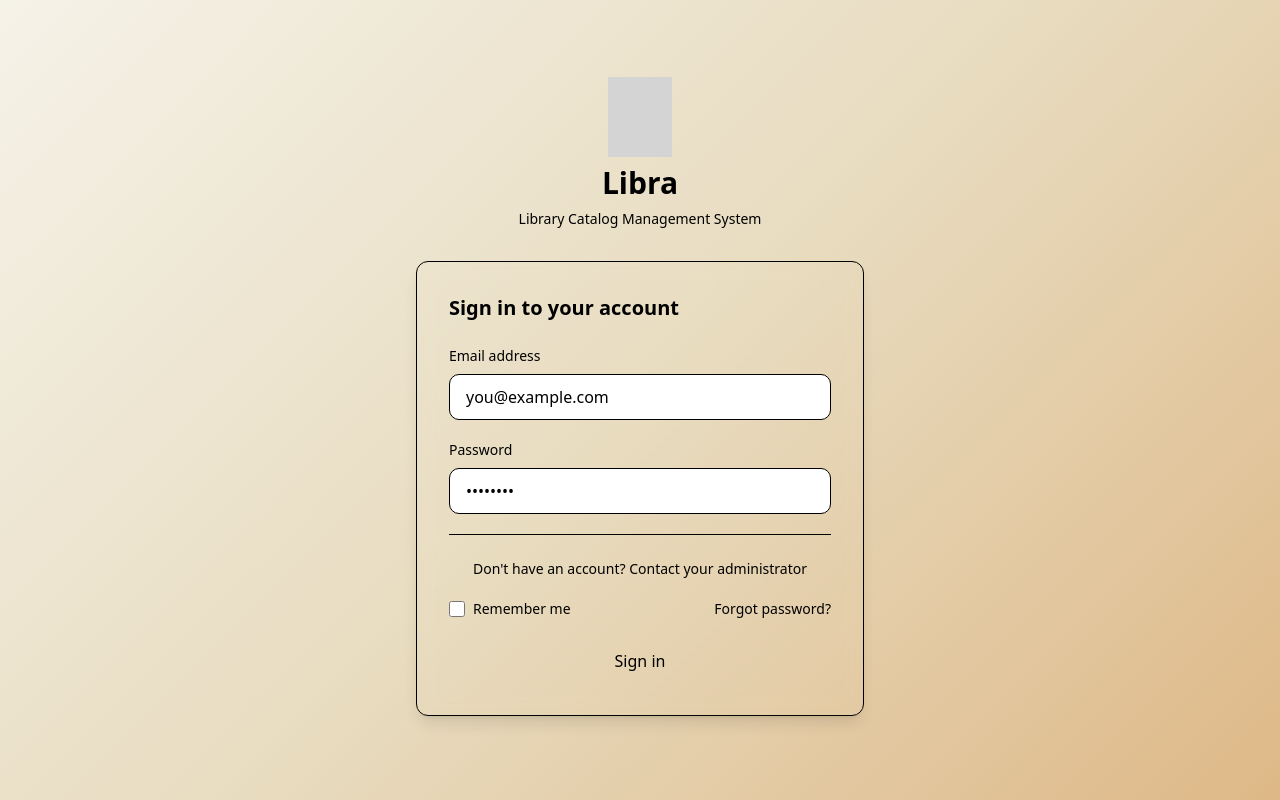
Failed login › displays an error message when login fails
Type "wrong@example.com" into the field labelled "Email address".
click(640, 396); type("wrong@example.com")  # box x1=449 y1=374 x2=831 y2=420
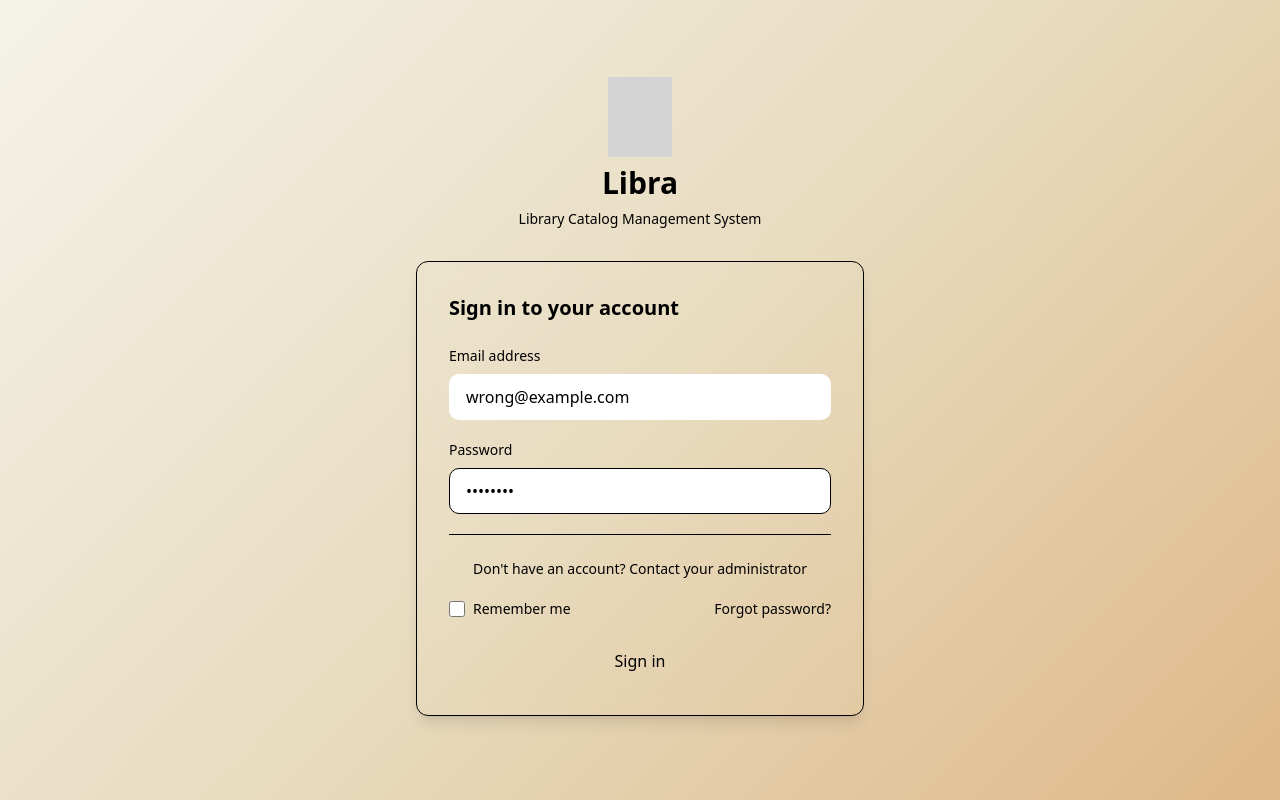
Type "badpassword" into the password field labelled "Password".
click(640, 490); type("badpassword")  # box x1=449 y1=468 x2=831 y2=514
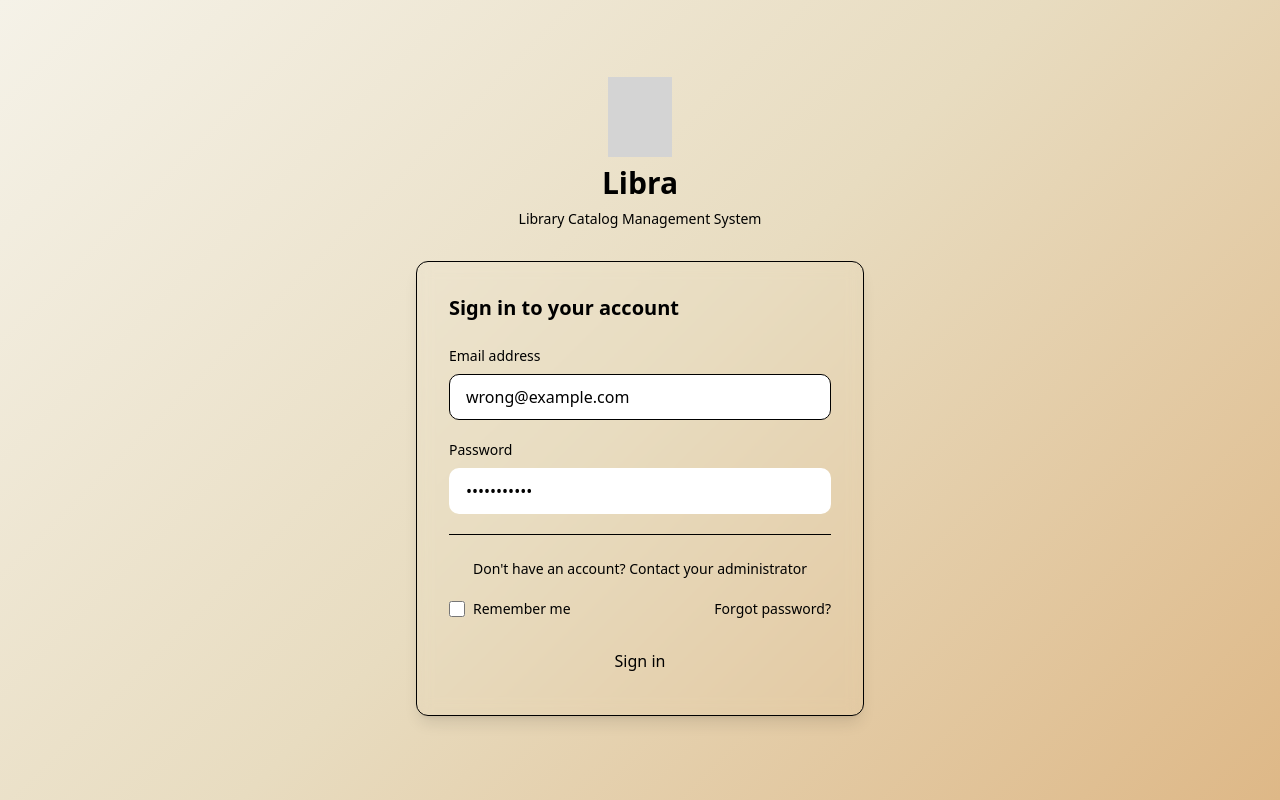
Click the button "Sign in".
click(640, 660)  # box x1=449 y1=638 x2=831 y2=682
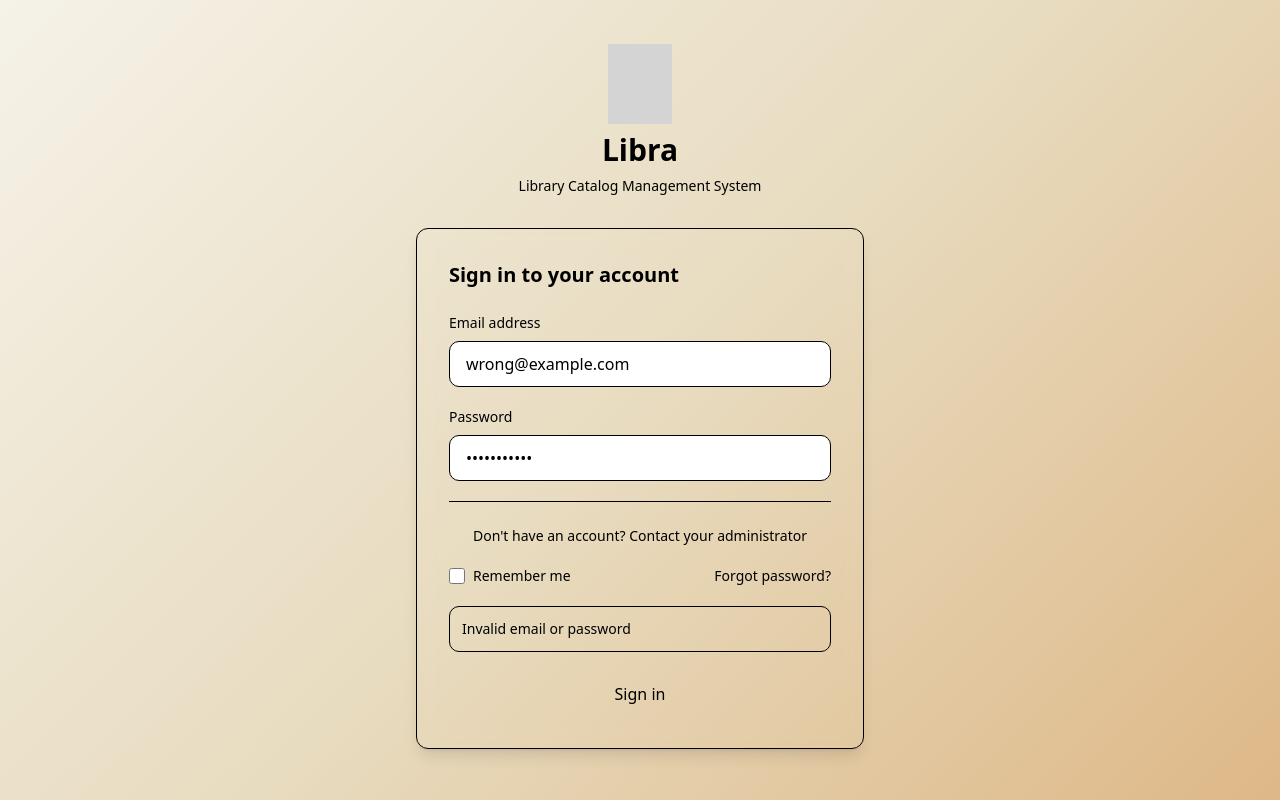
Check: the text "Invalid email or password" is shown, box x1=462 y1=618 x2=631 y2=638
